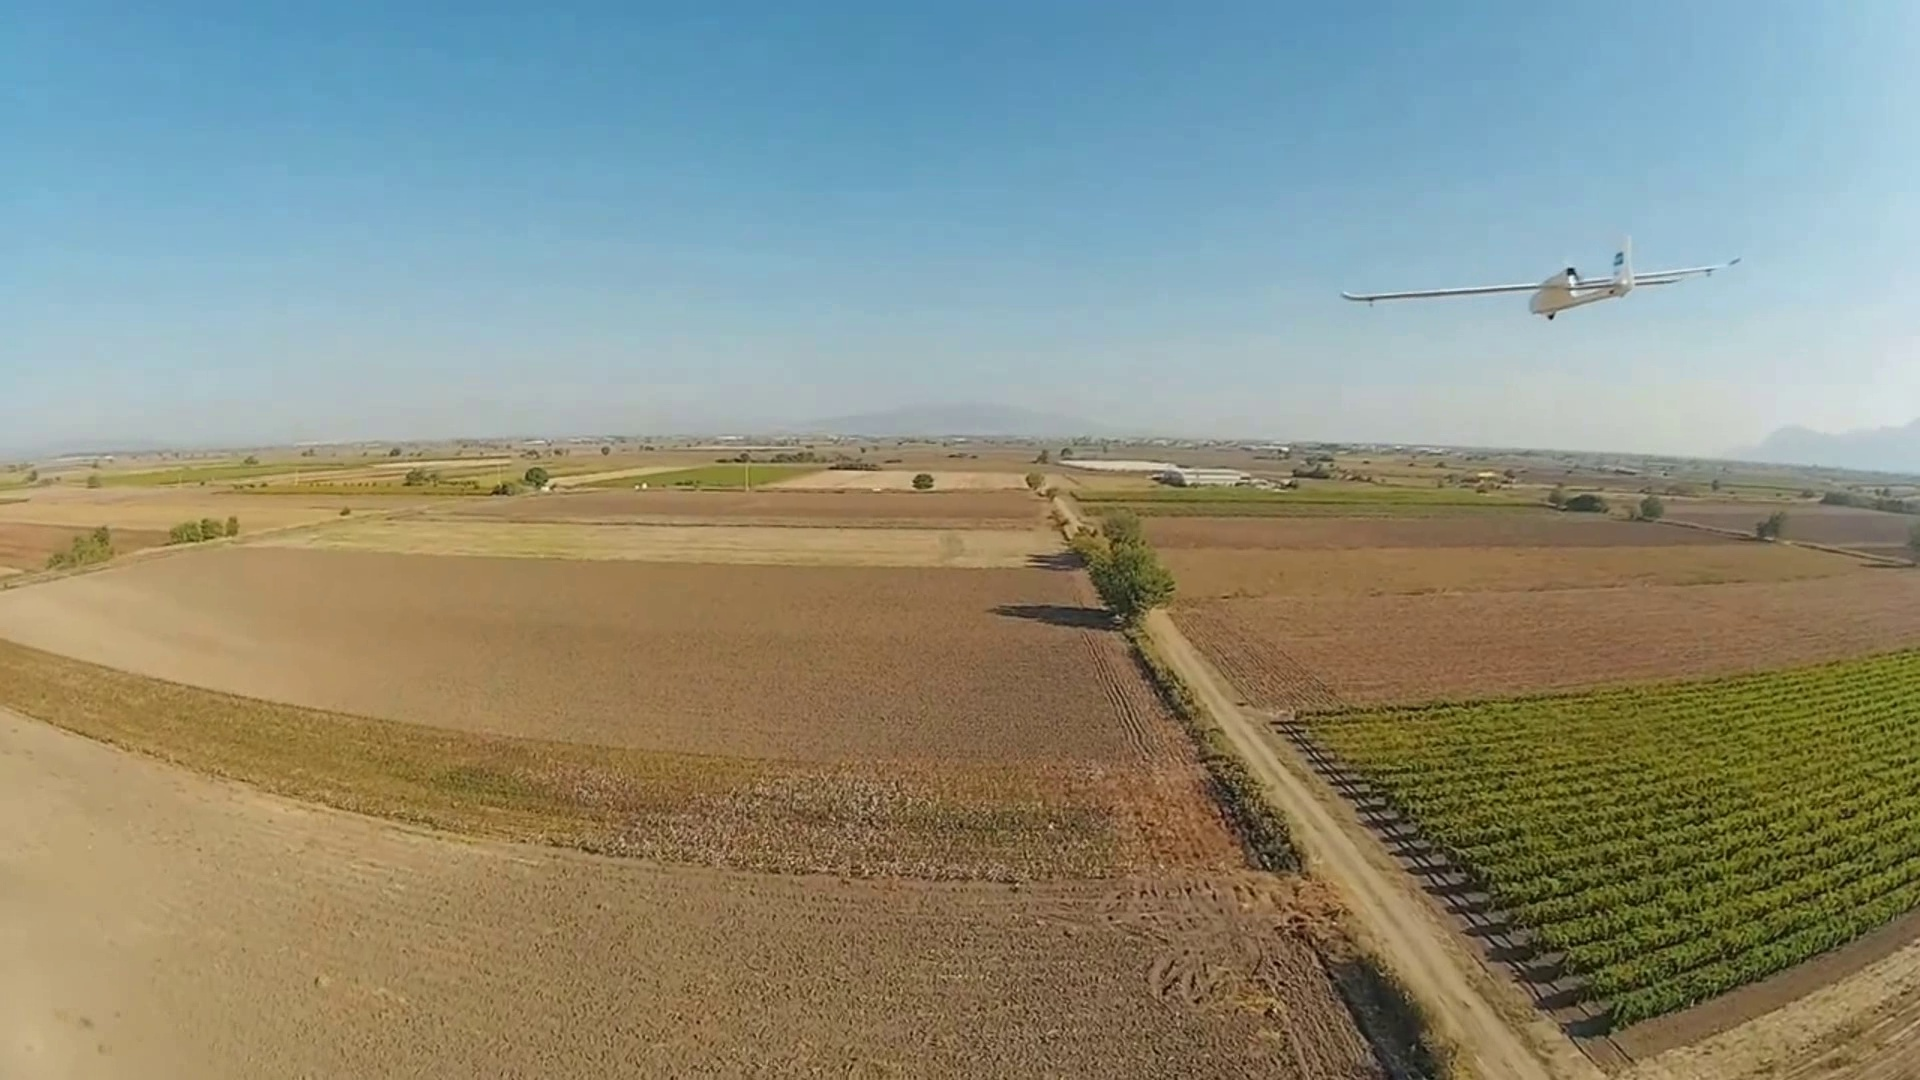airplane: (1338, 233, 1742, 322)
